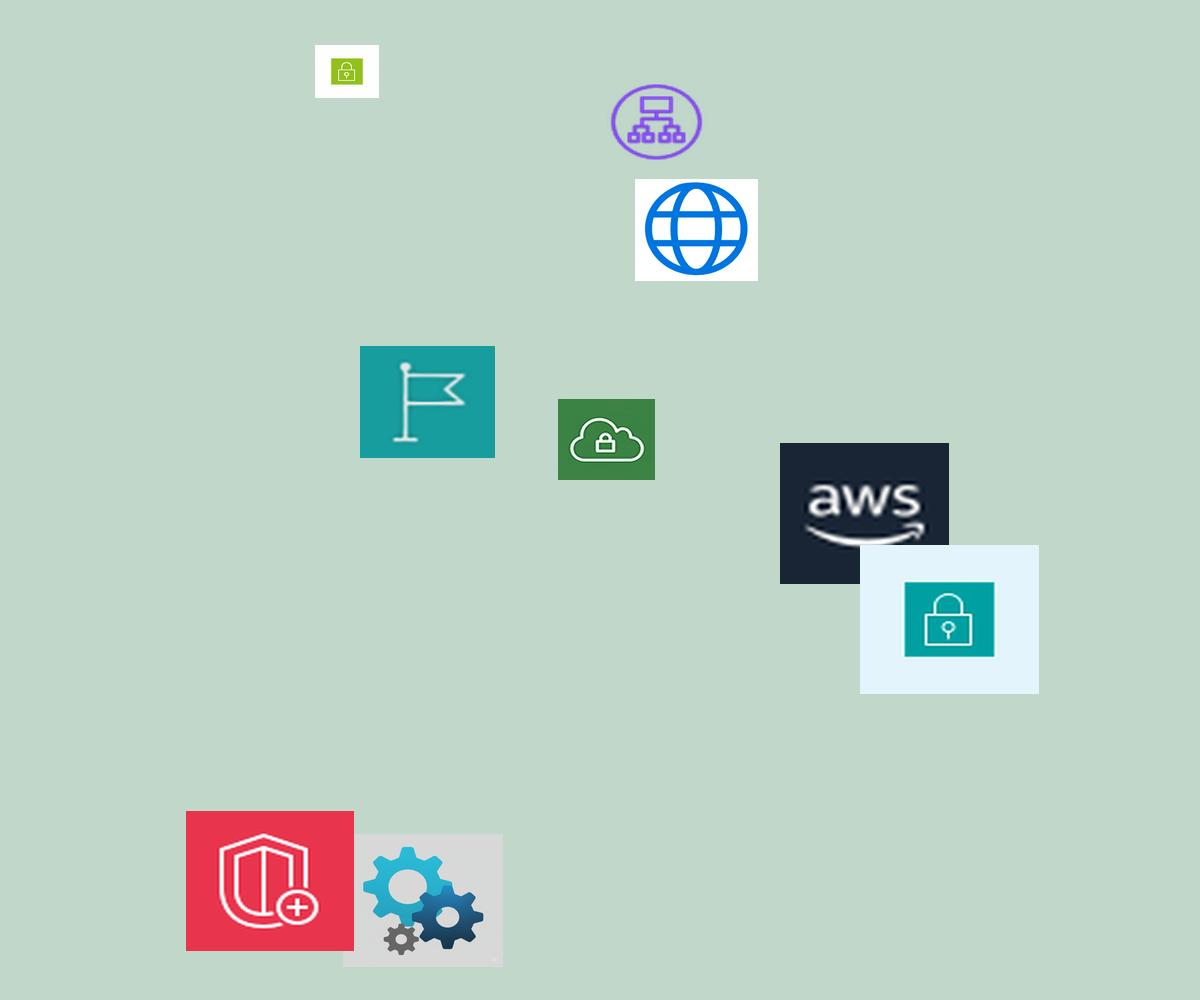AWS-Cloud-logo: (780, 443, 949, 584)
AWS-Private-subnet: (860, 545, 1039, 694)
AWS-Private_vpc: (558, 399, 655, 480)
AWS-Public-subnet: (315, 45, 379, 98)
AWS-Region: (360, 346, 495, 458)
AWS-Res_Elastic-Load-Balancing_Application-Load-Balancer: (607, 81, 706, 163)
AWS-Shield: (186, 811, 354, 951)
Azure_api: (343, 834, 503, 967)
Azure_http: (635, 179, 758, 281)
